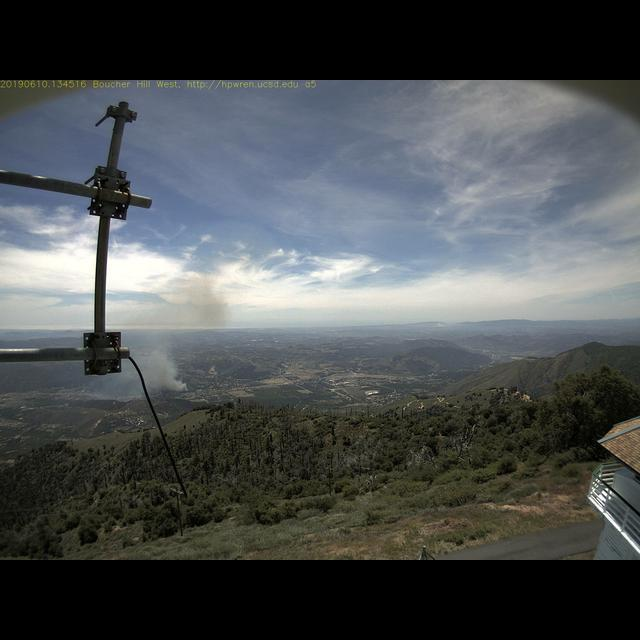Smoke: (113, 265, 228, 399)
